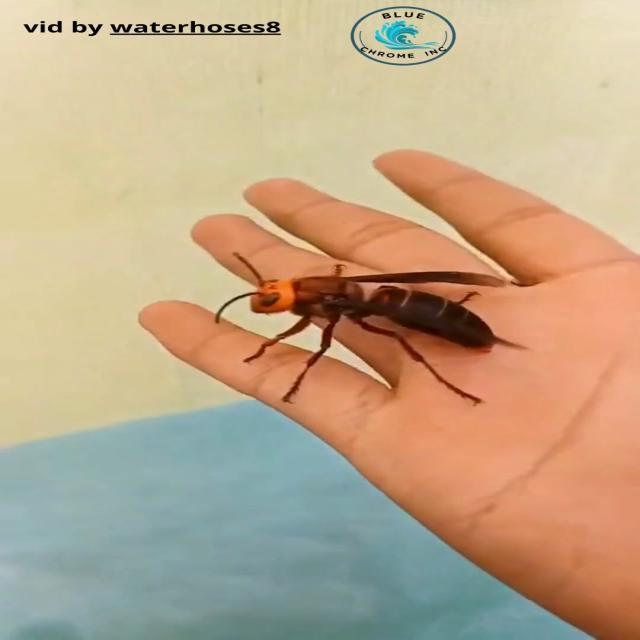Hornets: (209, 251, 530, 407)
